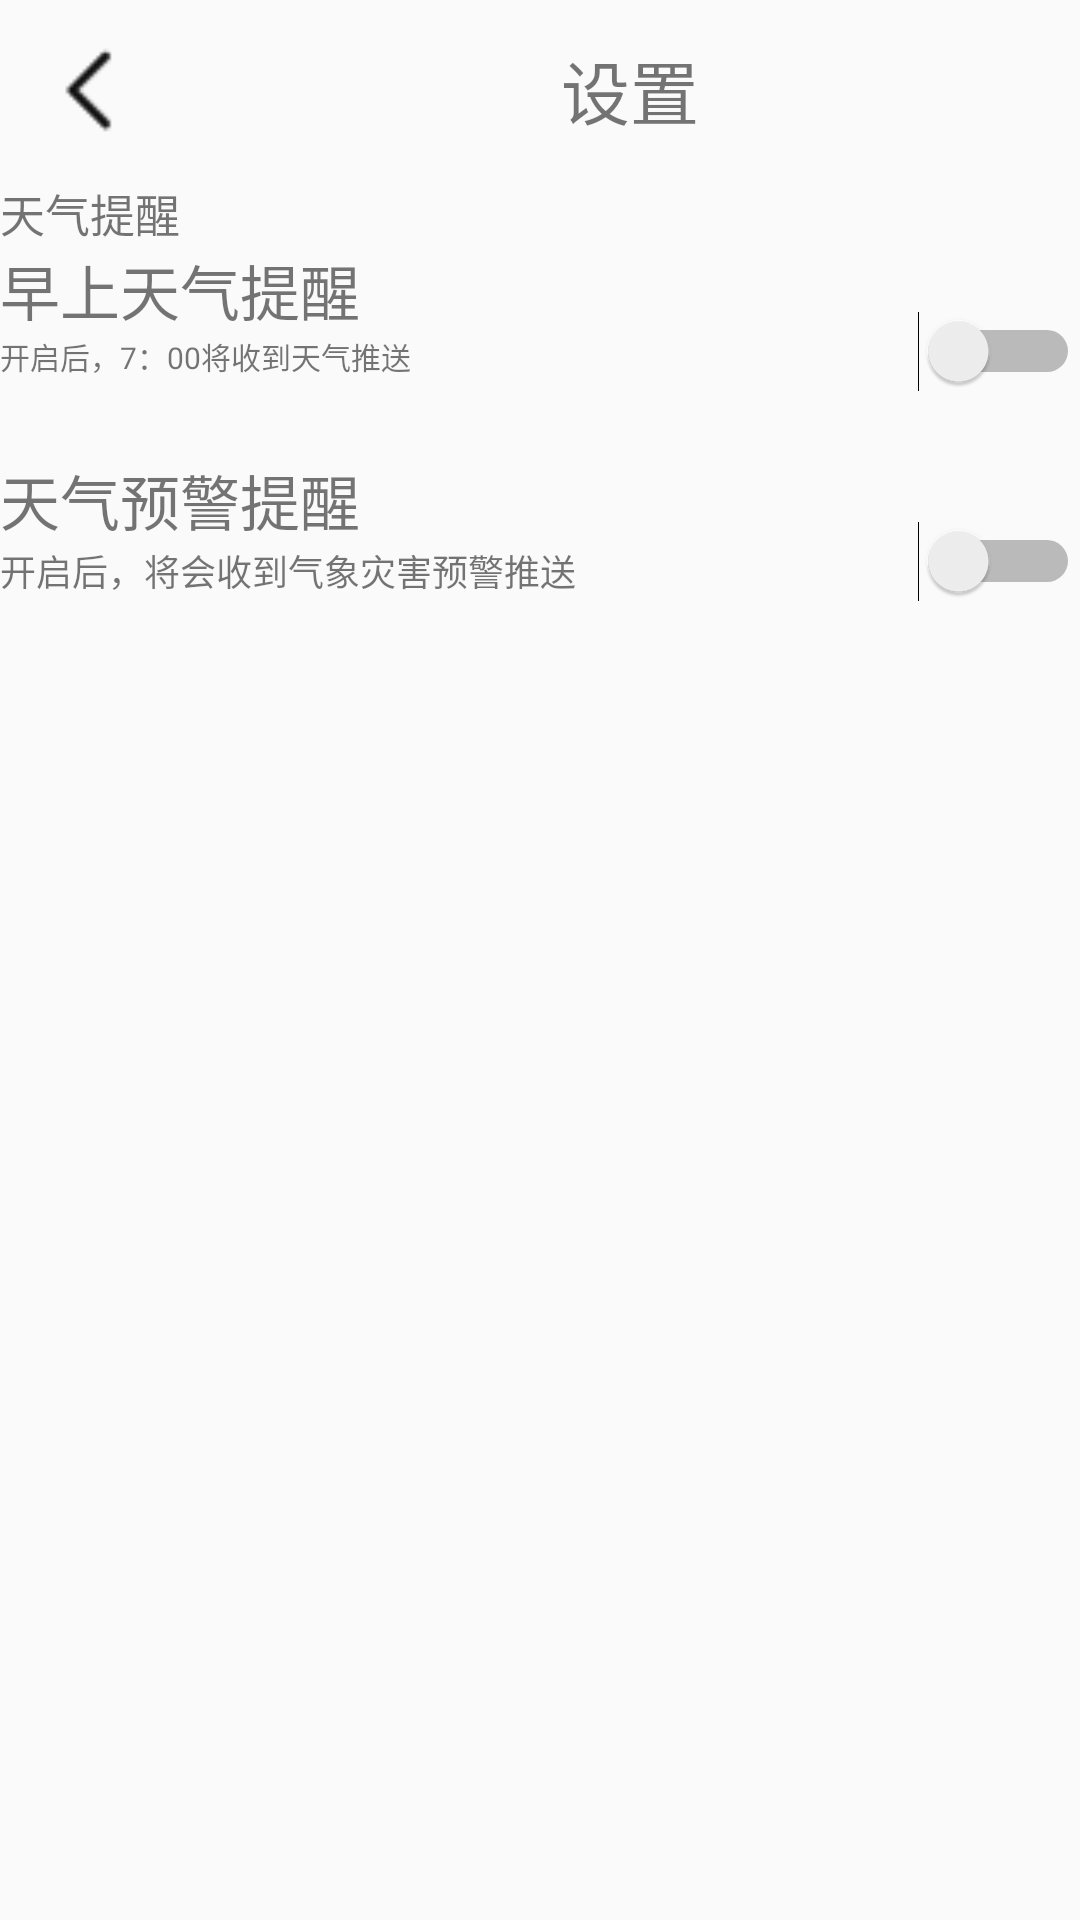

Named icons in this screenshot (1080px×1920px) and their centers, point (x, y):
back: point (88, 90)
